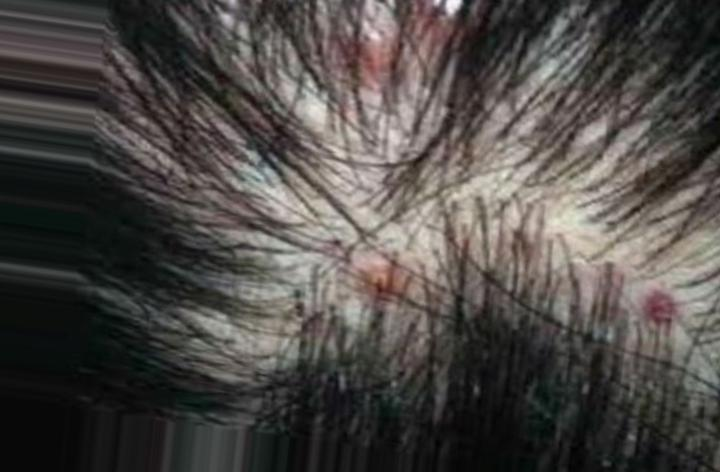Folliculitis: (385, 0, 521, 74), (325, 24, 425, 93), (630, 272, 687, 339), (353, 253, 420, 307)
